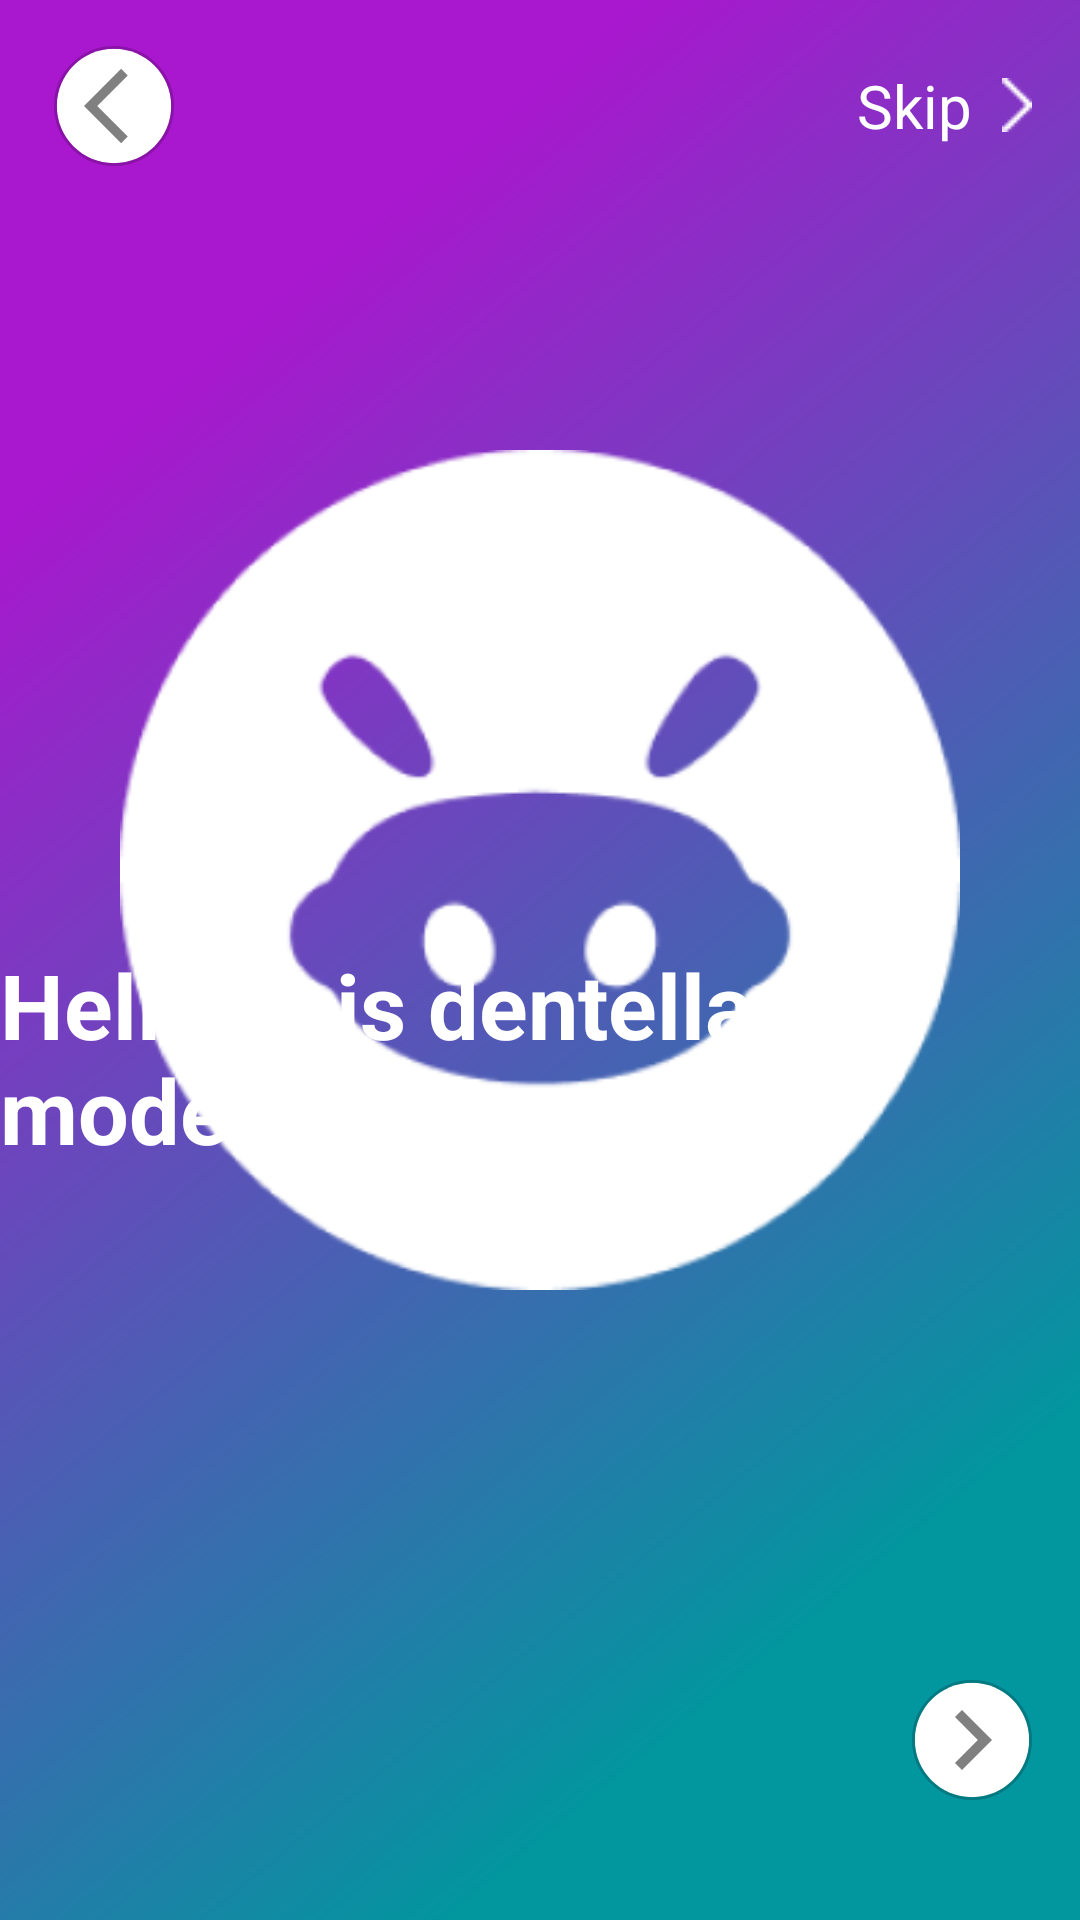

Icon bounding boxes for this 1080px×1920px phone screenshot, format (x1, y1, x2, y2):
back: (54, 46, 174, 166)
next: (912, 1680, 1032, 1800)
